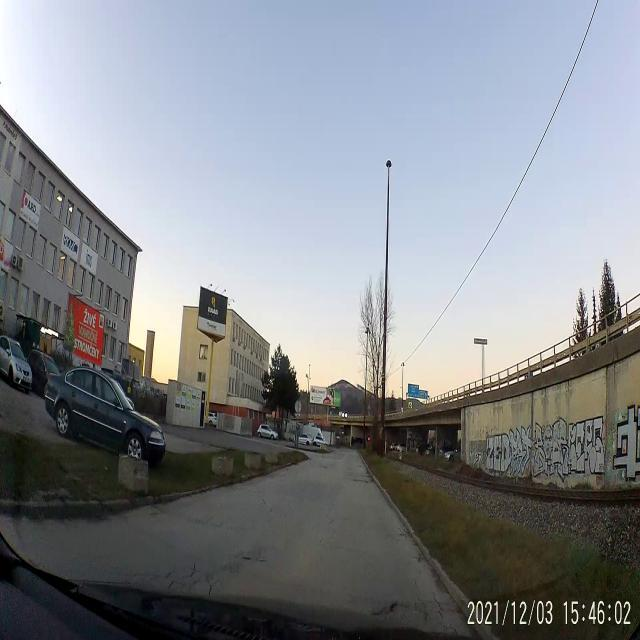Pothole: (366, 601, 419, 624)
